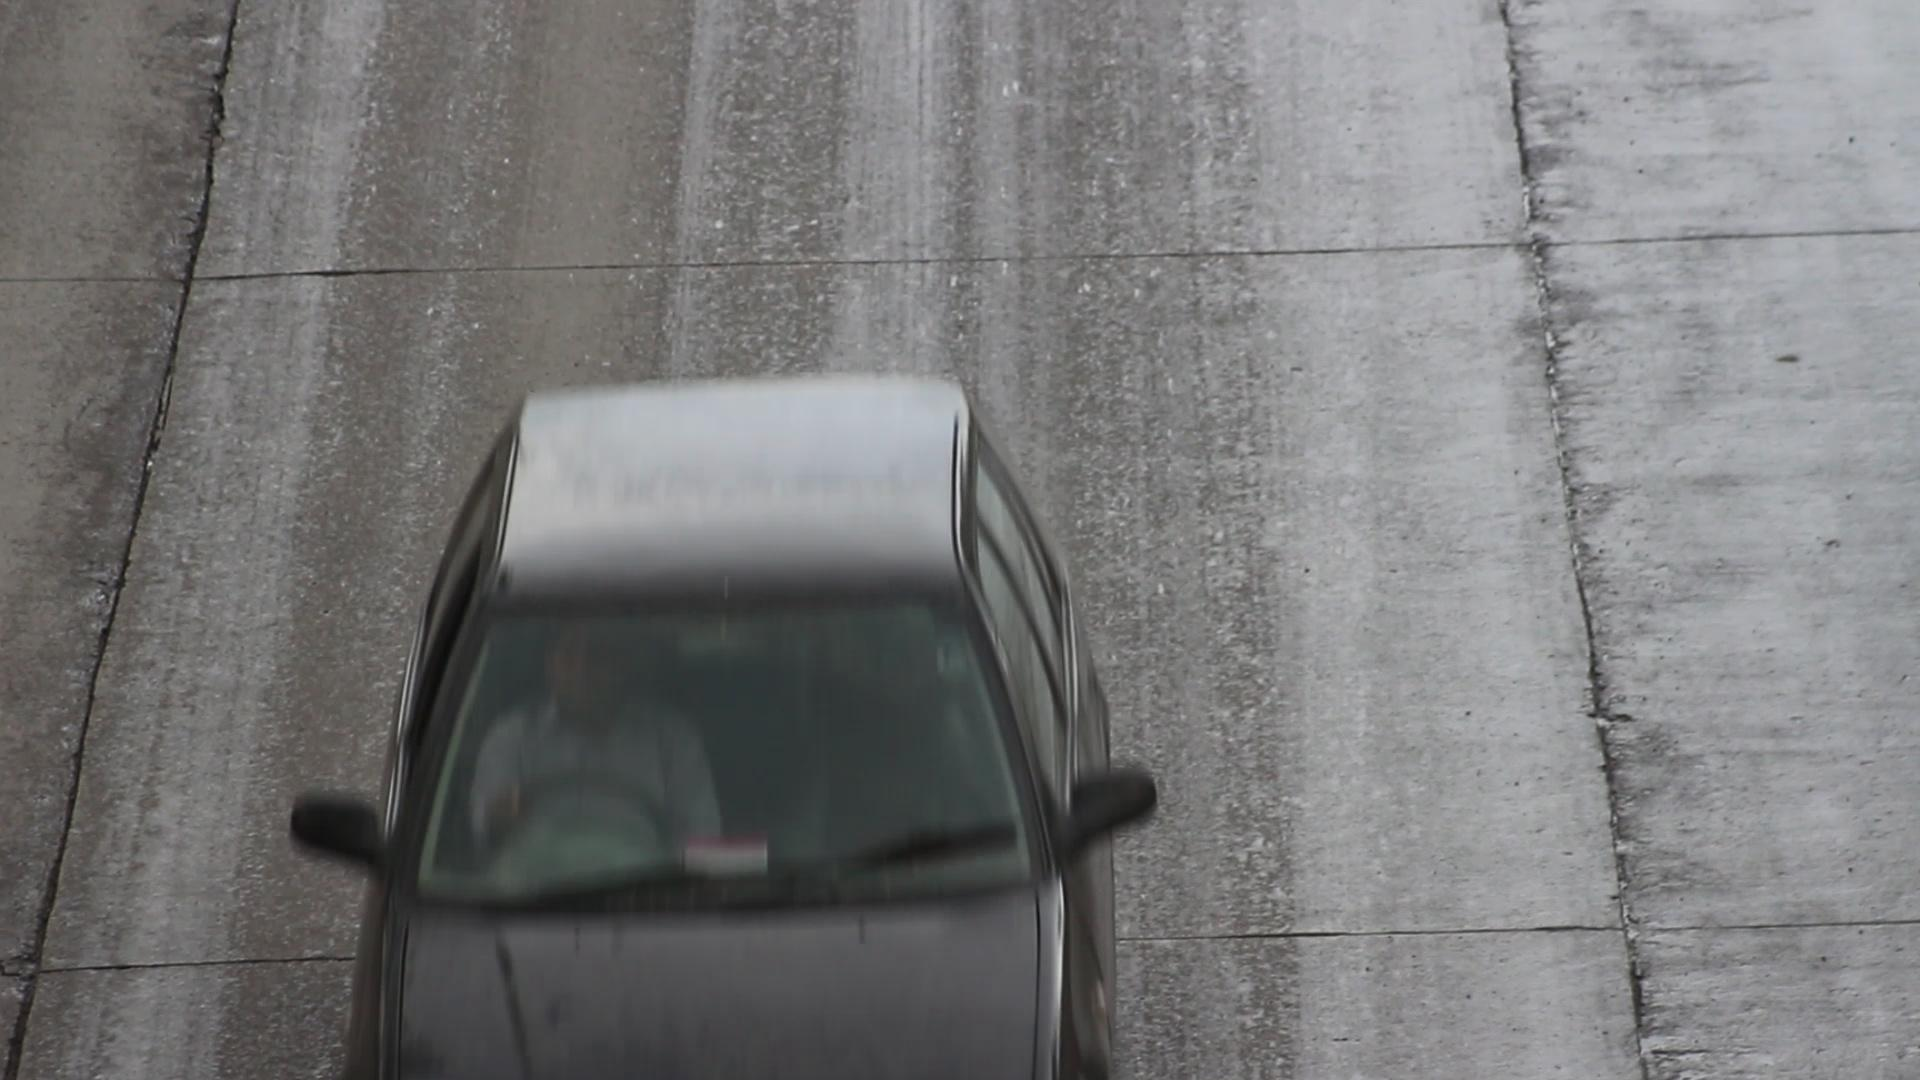windshield: (375, 563, 1054, 920)
